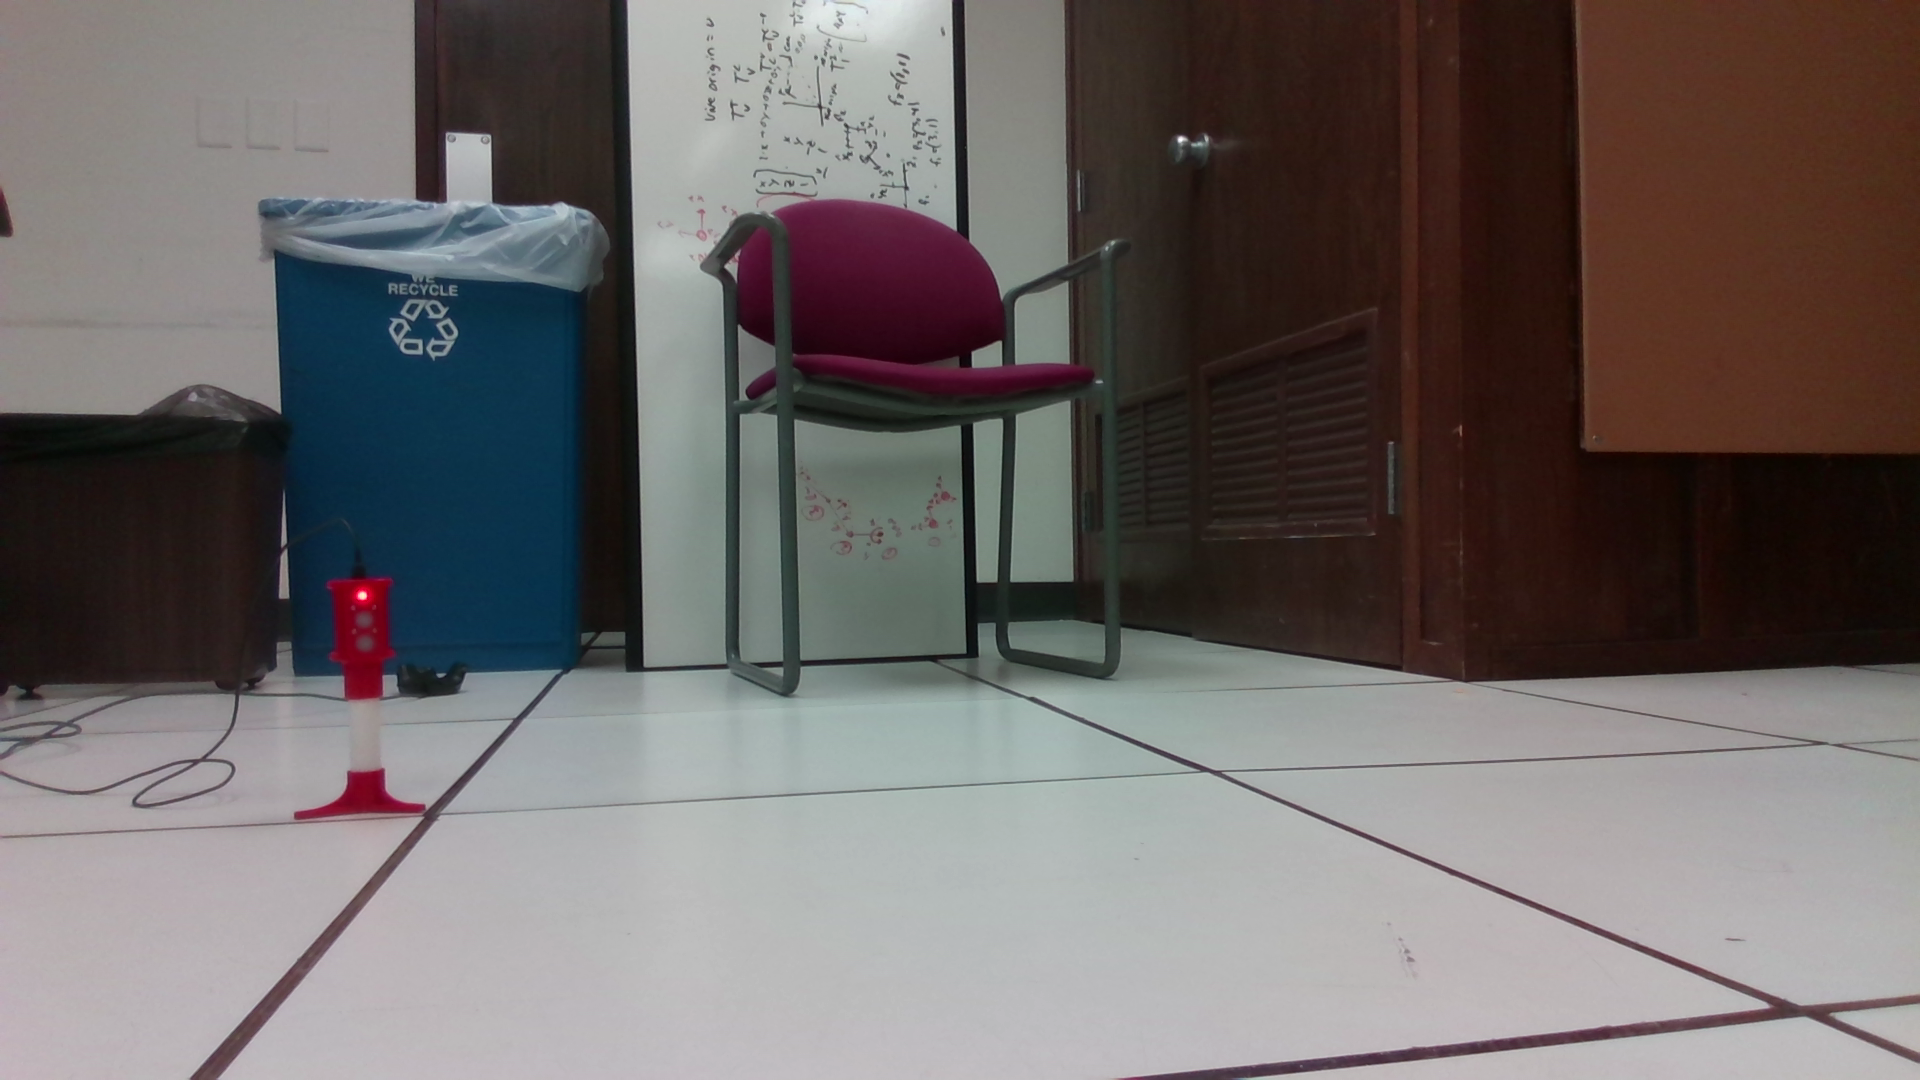stoplight: (327, 574, 394, 707)
